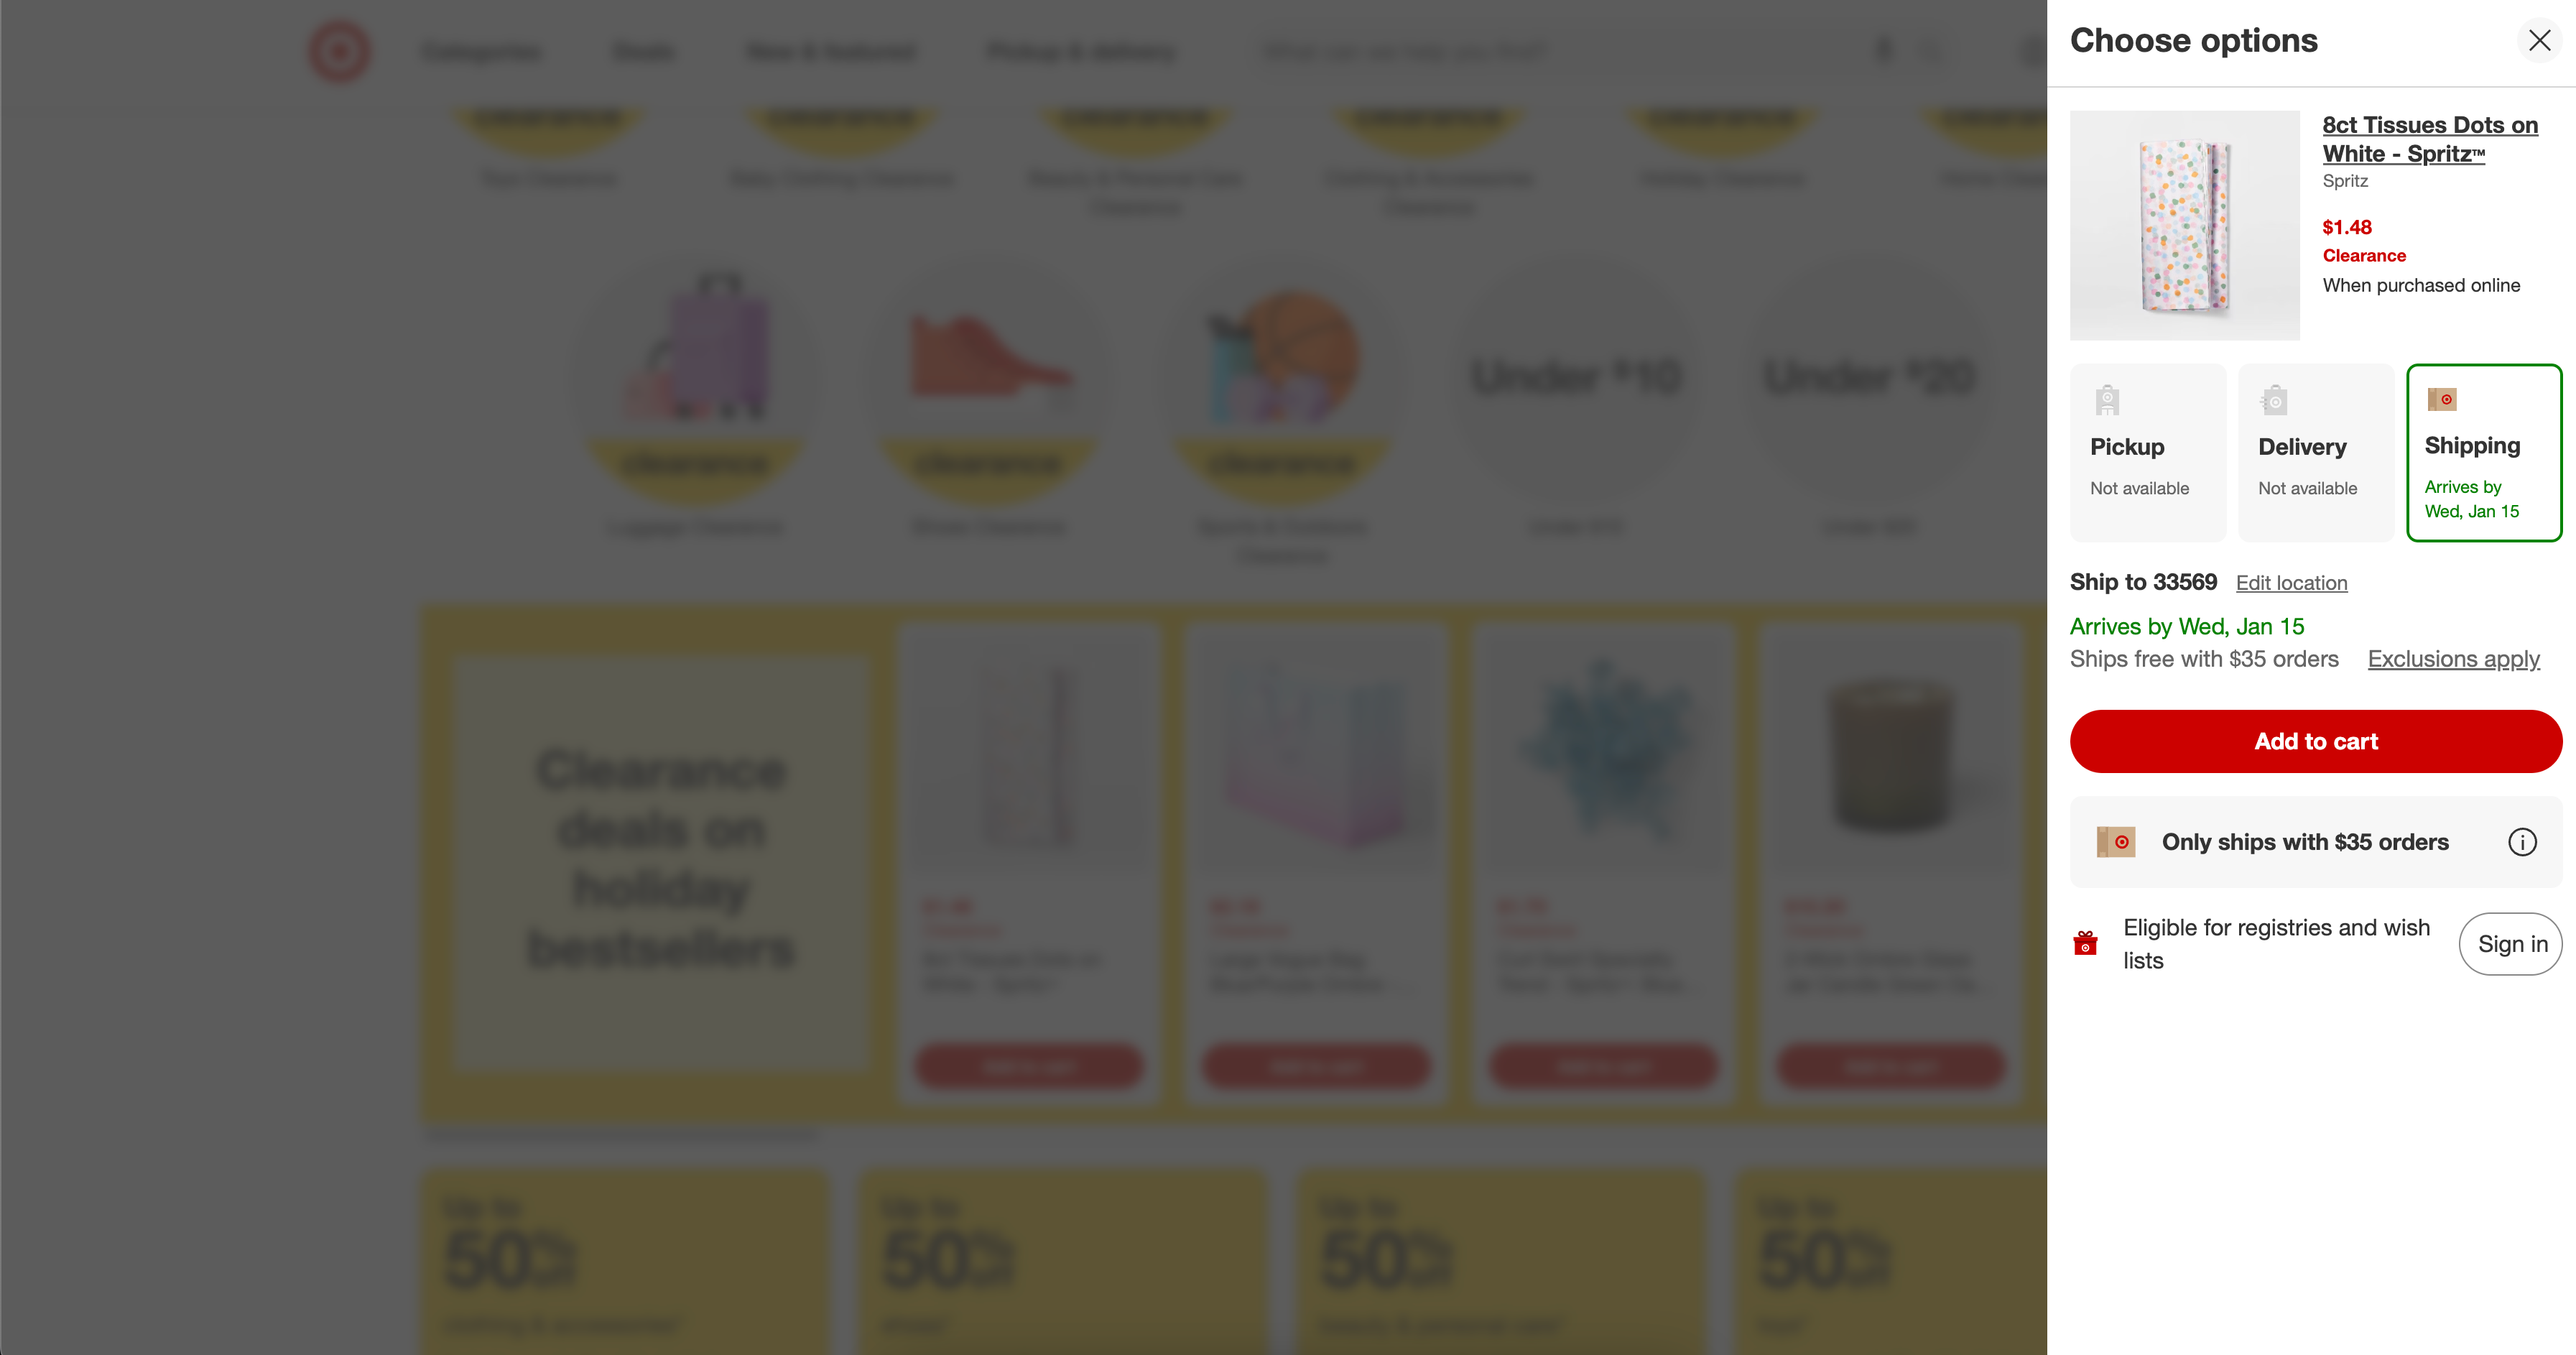button: (2070, 709, 2563, 774), (2234, 363, 2396, 543), (2069, 361, 2228, 543), (2406, 364, 2565, 543), (2456, 911, 2563, 977)
